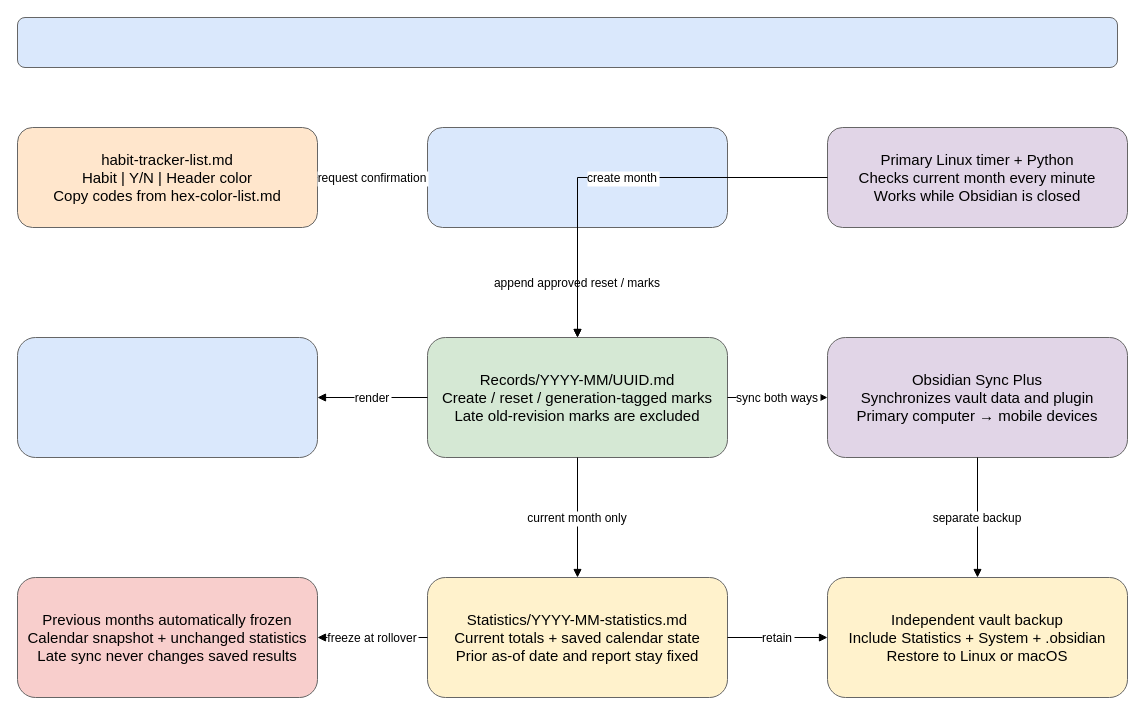
The diagram is 1145 pixels wide and 715 high, and some of its shapes have lost their labels. Here are the shapes that lost their labels. From the top down, the centre of each, then its label:
point 567,42: Habit Calendar 001b — confirmed current-month resets and frozen history
point 577,177: Obsidian 001b List changed → Yes/No dialog Yes: rebuild and clear all marks
point 167,397: Monthly note + custom view 2026-10 October 2026 Six columns desktop; one mobile
